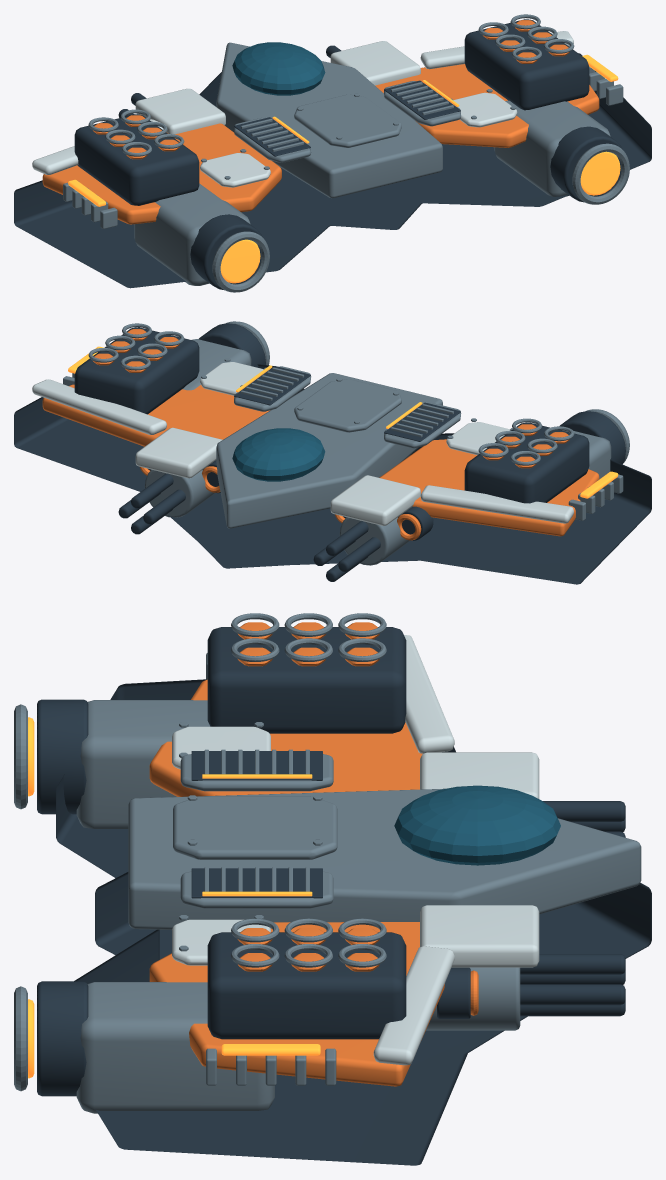
The model's file is Manta.fbx.
3 renders of one model, top to bottom at view 1: azimuth 30°, elevation 25°; view 2: azimuth 150°, elevation 25°; view 3: azimuth 270°, elevation 25°, orthographic. The views are drawn at different scales.
Visible parts, largest first — view 1: Broad manta armor.003, Central command shell.003, Missile cassette.007, Missile cassette.006, Ochre wing armor.006, Heavy engine.006, Ochre wing armor.007, Heavy engine.007, Low armored canopy.003, Inset service armor.223, Gun shield.006, Gun shield.007 (+14 smaller); view 2: Broad manta armor.003, Central command shell.003, Missile cassette.007, Ochre wing armor.006, Missile cassette.006, Ochre wing armor.007, Low armored canopy.003, Inset service armor.223, Gun shield.006, Gun shield.007, Wing ivory rim.006, Wing ivory rim.007 (+17 smaller); view 3: Broad manta armor.003, Central command shell.003, Heavy engine.007, Missile cassette.007, Missile cassette.006, Low armored canopy.003, Heavy engine.006, Inset service armor.223, Ochre wing armor.006, Ochre wing armor.007, Gun shield.007, Armored thruster.007 (+20 smaller).
Boxes of the visible parts, left/top/right/bottom form: Broad manta armor.003: left=14, top=53, right=651, bottom=288; Central command shell.003: left=216, top=42, right=442, bottom=198; Missile cassette.007: left=464, top=19, right=589, bottom=110; Missile cassette.006: left=74, top=114, right=199, bottom=205; Ochre wing armor.006: left=42, top=123, right=281, bottom=224; Heavy engine.006: left=134, top=183, right=250, bottom=285; Ochre wing armor.007: left=375, top=64, right=599, bottom=147; Heavy engine.007: left=494, top=100, right=610, bottom=196; Low armored canopy.003: left=232, top=42, right=325, bottom=95; Inset service armor.223: left=294, top=94, right=401, bottom=147; Gun shield.006: left=135, top=88, right=225, bottom=134; Gun shield.007: left=330, top=41, right=420, bottom=85; Broad manta armor.003: left=14, top=364, right=651, bottom=584; Central command shell.003: left=216, top=373, right=442, bottom=528; Missile cassette.007: left=74, top=327, right=199, bottom=414; Ochre wing armor.006: left=379, top=439, right=599, bottom=536; Missile cassette.006: left=464, top=422, right=589, bottom=503; Ochre wing armor.007: left=42, top=384, right=269, bottom=446; Low armored canopy.003: left=232, top=428, right=325, bottom=481; Inset service armor.223: left=294, top=379, right=401, bottom=432; Gun shield.006: left=330, top=475, right=420, bottom=525; Gun shield.007: left=135, top=427, right=222, bottom=478; Wing ivory rim.006: left=420, top=485, right=573, bottom=523; Wing ivory rim.007: left=32, top=379, right=166, bottom=434; Broad manta armor.003: left=56, top=679, right=651, bottom=1165; Central command shell.003: left=128, top=788, right=641, bottom=930; Heavy engine.007: left=76, top=982, right=274, bottom=1113; Missile cassette.007: left=207, top=932, right=406, bottom=1039; Missile cassette.006: left=207, top=627, right=406, bottom=733; Low armored canopy.003: left=394, top=785, right=560, bottom=865; Heavy engine.006: left=76, top=700, right=209, bottom=828; Inset service armor.223: left=173, top=796, right=337, bottom=859; Ochre wing armor.006: left=149, top=679, right=422, bottom=796; Ochre wing armor.007: left=149, top=922, right=444, bottom=1086; Gun shield.007: left=420, top=905, right=539, bottom=967; Armored thruster.007: left=37, top=981, right=88, bottom=1096.
Size of the model in its own units: 529 by 92.8 by 321.
